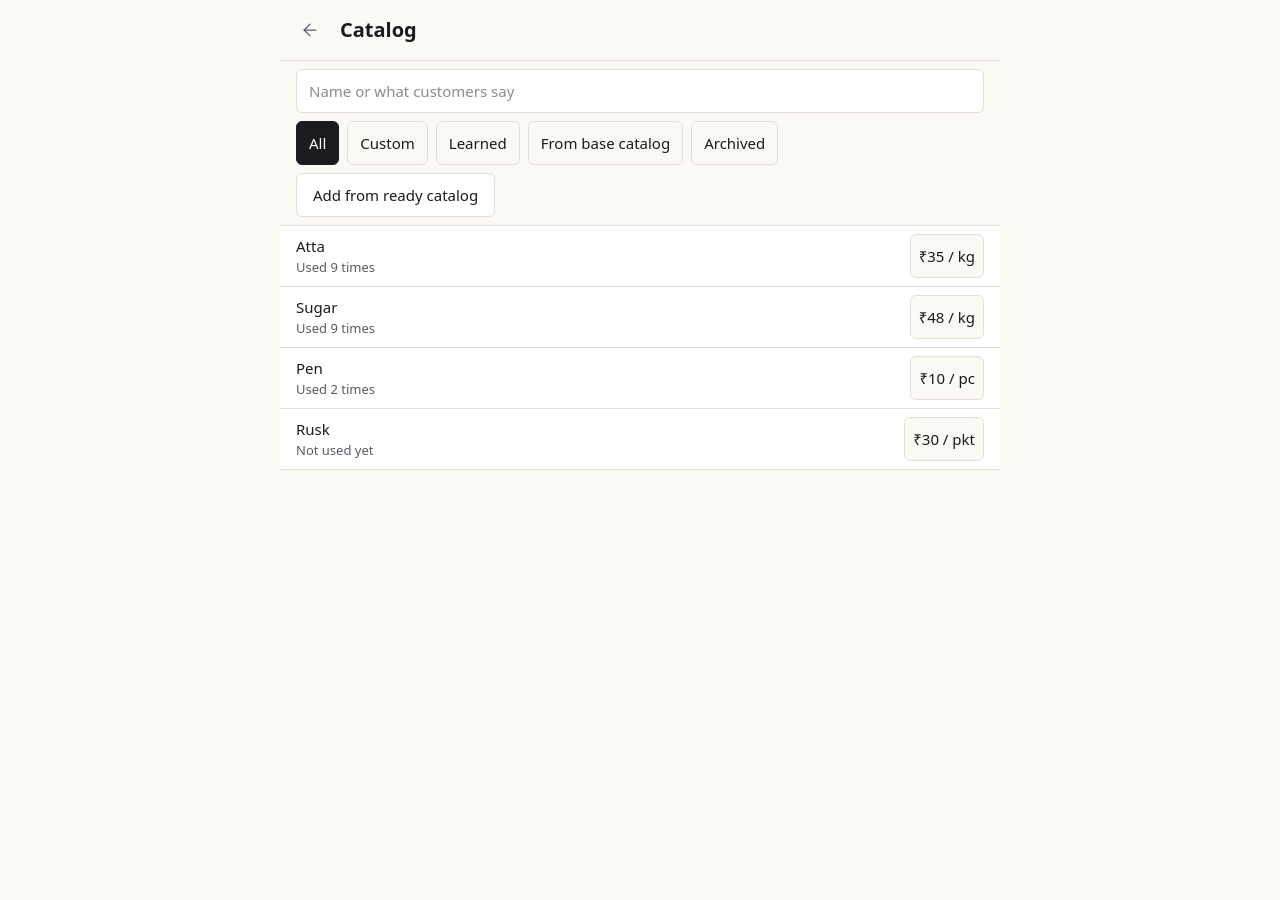
Test case: KB-311 - S4 Catalog › price edit: the typed rupees are saved as paise, the screen shows the re-pulled price, billing is told to reload
Expected: the list named "Products" is shown, [280,226,1000,470]
Click the button with aria-label "Price of Sugar" at [947, 317], box [910,295,984,339]
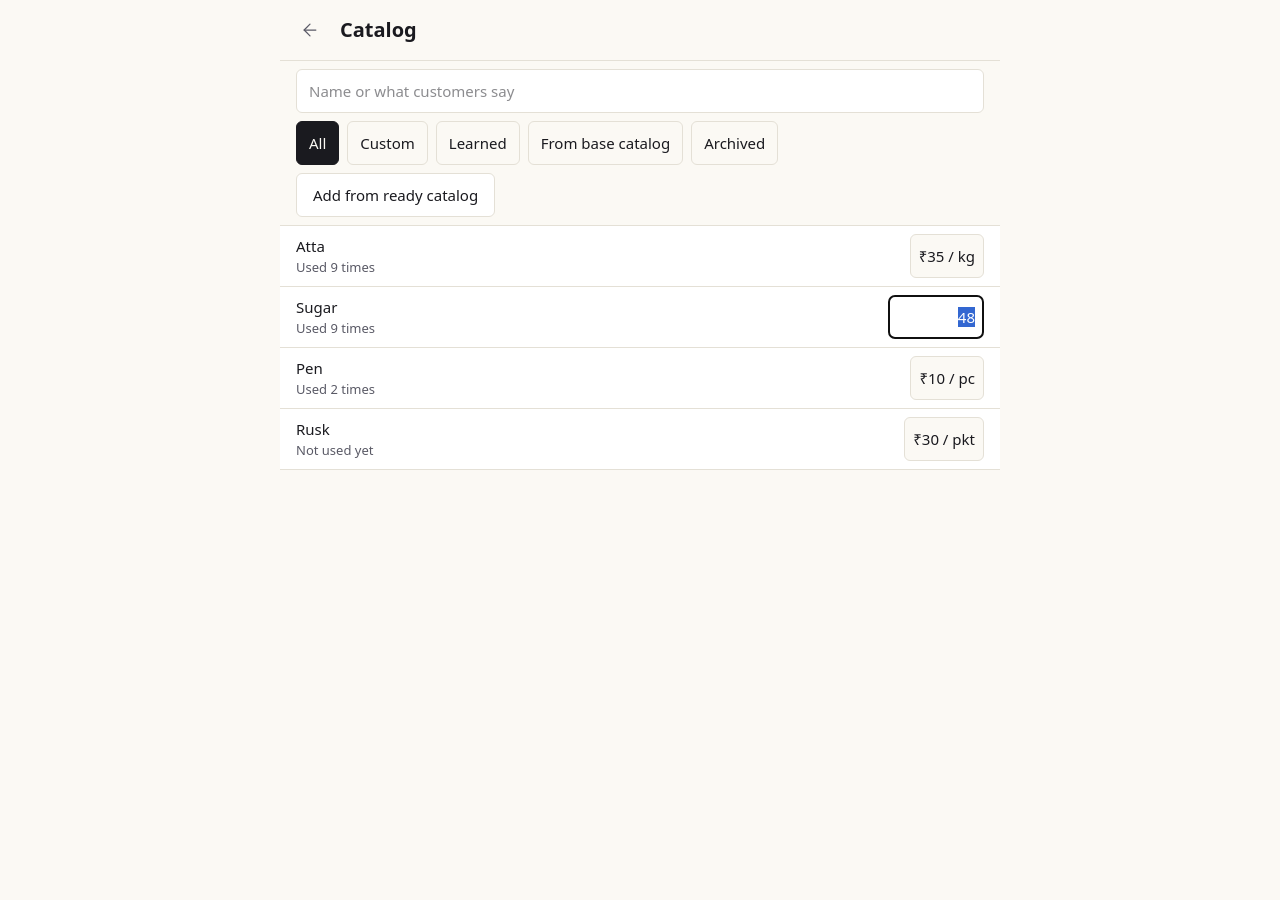
Replace the text in the field named "Price of Sugar" with "52.50" at [936, 317], box [888,295,984,339]
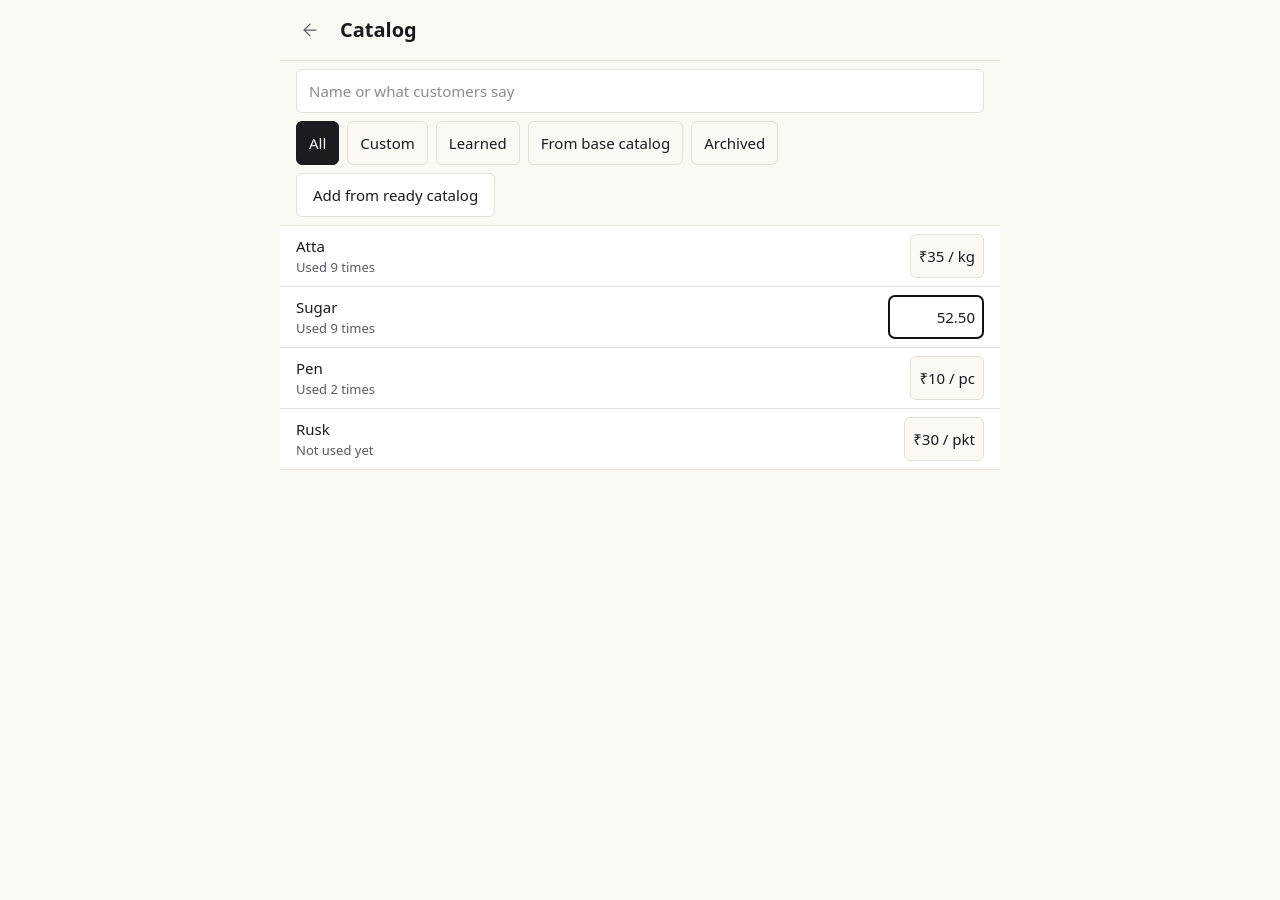
Press Enter in the field named "Price of Sugar", box [888,295,984,339]
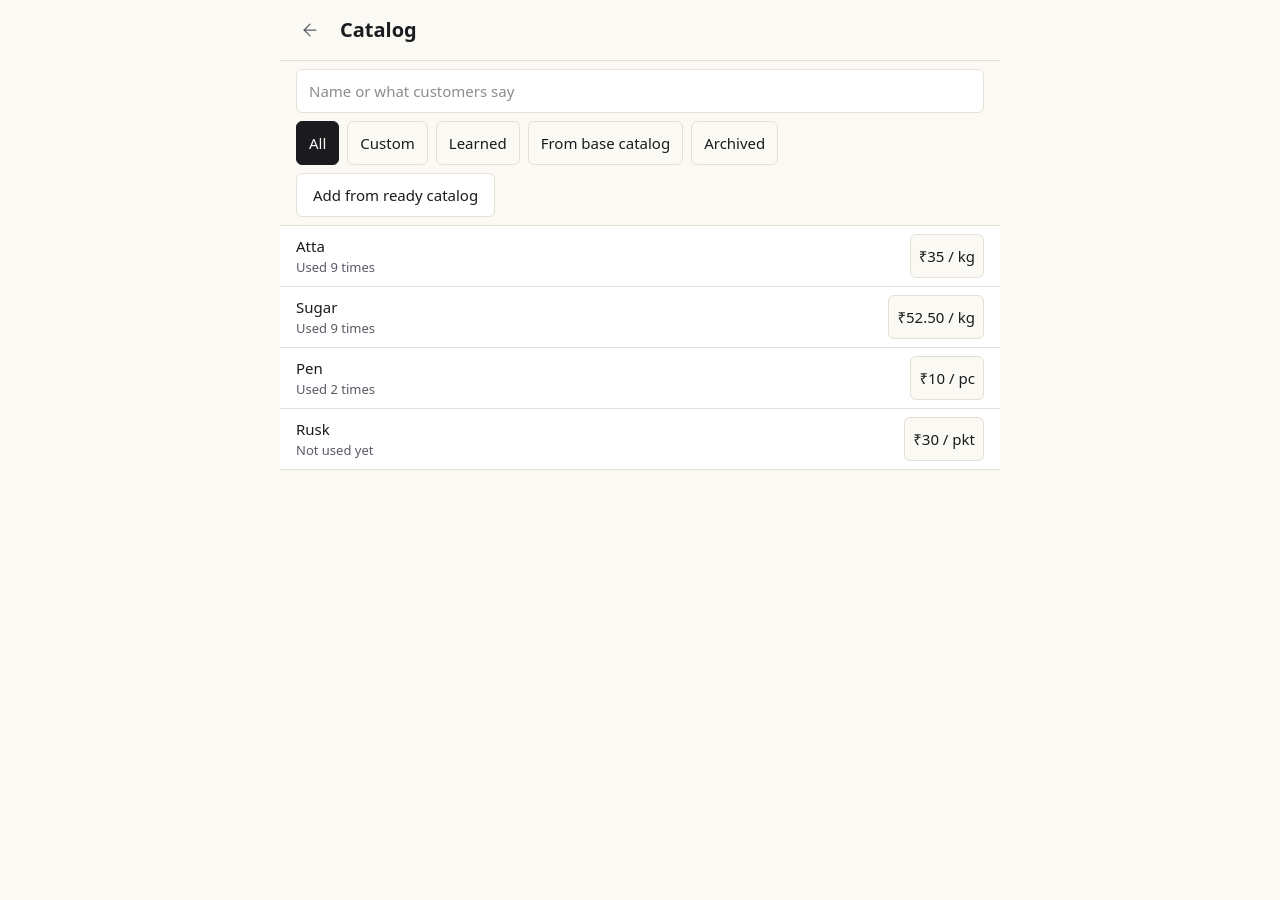
Expected: the list item "Sugar Used 9 times ₹52.50 / kg" is shown, [280,287,1000,348]
